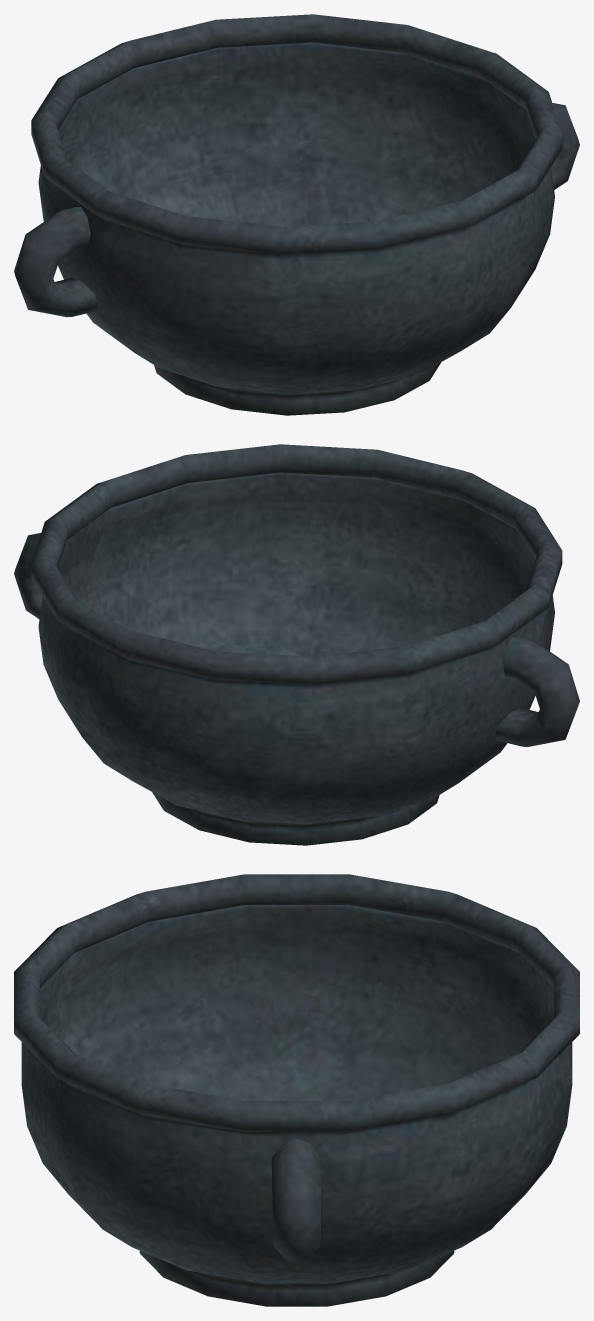
Rendered from bowl.gltf.
3 views of the same model, one above another, from view 1: azimuth 30°, elevation 25°; view 2: azimuth 150°, elevation 25°; view 3: azimuth 270°, elevation 25° (orthographic). The views are drawn at different scales.
Parts seen in each view (by area): view 1: Pottery_3; view 2: Pottery_3; view 3: Pottery_3.
Part boxes in pixels (<box>): Pottery_3: <box>14,14,579,415</box>; Pottery_3: <box>14,444,579,845</box>; Pottery_3: <box>14,874,579,1306</box>.
Size of the model in its own units: 0.471 by 0.186 by 0.3783.
Materials: 1 (1 with a texture image).
